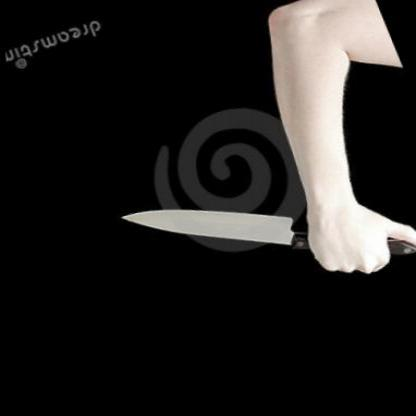knife: (101, 151, 360, 349)
